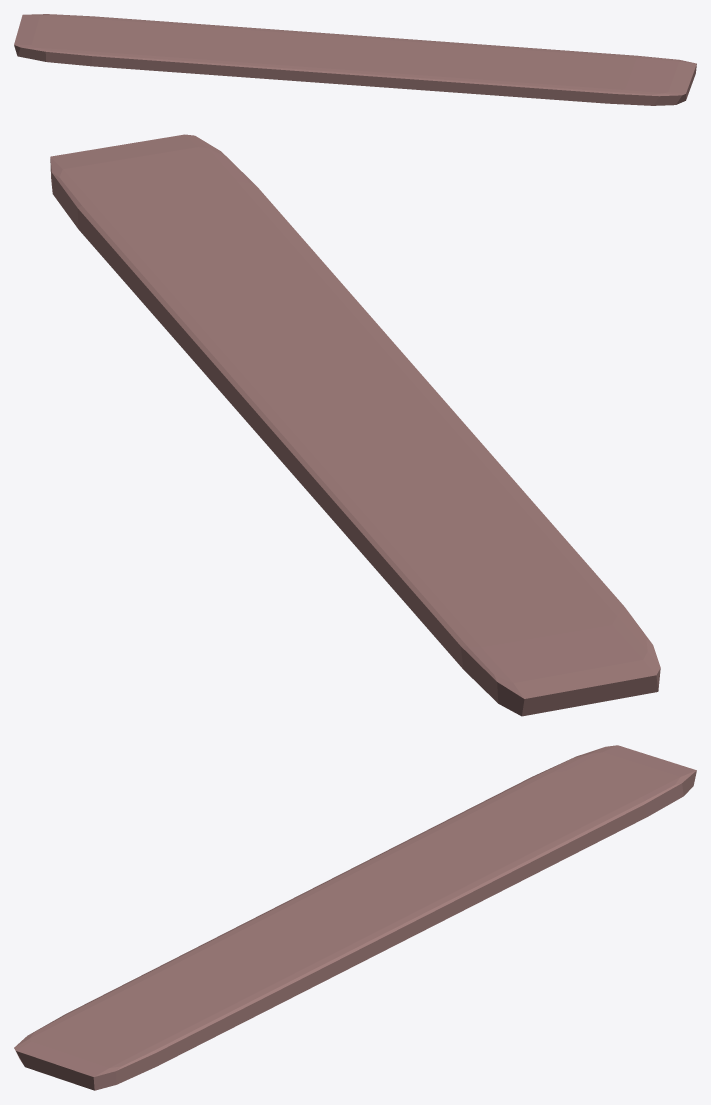
The model's file is SM_Plank.fbx.
3 renders of one model, top to bottom at view 1: azimuth 30°, elevation 25°; view 2: azimuth 150°, elevation 25°; view 3: azimuth 270°, elevation 25°, orthographic. The views are drawn at different scales.
Visible parts, largest first — view 1: plank; view 2: plank; view 3: plank.
Boxes of the visible parts, x1,y1,x2,y2 form: plank: [14, 14, 696, 105]; plank: [50, 134, 660, 716]; plank: [14, 745, 696, 1090].
Bounding box in the file's own units: 771 × 18.54 × 670.
